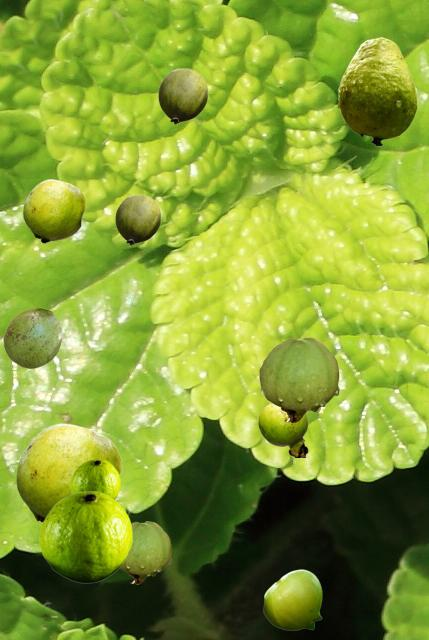guava: (16, 423, 121, 522), (337, 37, 416, 145), (39, 491, 131, 582), (259, 337, 338, 422), (23, 179, 85, 242), (263, 569, 321, 629), (3, 308, 61, 367), (120, 521, 170, 583), (158, 68, 207, 123), (258, 403, 307, 456), (115, 194, 160, 244), (70, 459, 119, 498)
